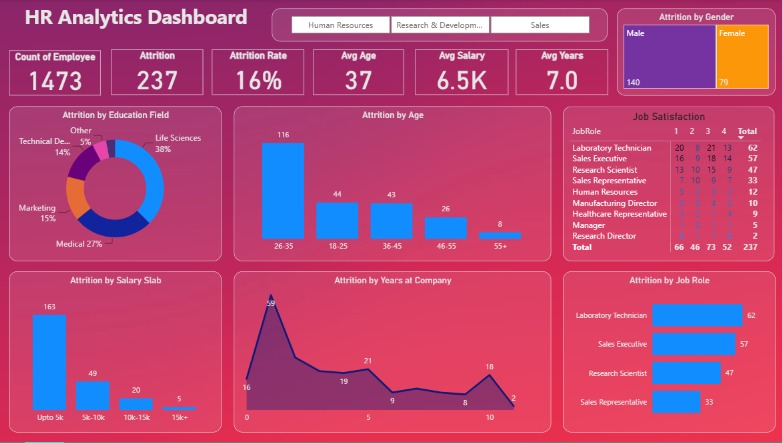

This screenshot's page, from the dashboard's own definition file:
{"tool":"powerbi","page":{"name":"Page 1","canvas":[1280,720],"ordinal":0},"visuals":[{"type":"card","title":"Count of Employee","fields":{"Values":["CountNonNull(HR_Analytics.EmpID)"]},"box":[20.1,82.3,148.6,74.3],"z":0},{"type":"card","title":"Attrition Rate","fields":{"Values":["HR_Analytics.AttritionRate"]},"box":[350,82,150,74],"z":1000},{"type":"card","title":"Avg Age","fields":{"Values":["Avg(HR_Analytics.Age)"]},"box":[514,82,148,74],"z":2000},{"type":"card","title":"Attrition","fields":{"Values":["Sum(HR_Analytics.AttritionCount)"]},"box":[186,82,150,74],"z":3000},{"type":"card","title":"Avg Years","fields":{"Values":["Avg(HR_Analytics.YearsAtCompany)"]},"box":[844,82,150,74],"z":4000},{"type":"card","title":"Avg Salary","fields":{"Values":["Avg(HR_Analytics.MonthlyIncome)"]},"box":[680,82,152,74],"z":5000},{"type":"donutChart","title":"Attrition by Education","fields":{"Category":["HR_Analytics.EducationField"],"Y":["Sum(HR_Analytics.AttritionCount)"]},"box":[20,174,346,252],"z":6000},{"type":"columnChart","title":"Attrition by Age","fields":{"Category":["HR_Analytics.AgeGroup"],"Y":["Sum(HR_Analytics.AttritionCount)"]},"box":[386,174,516,252],"z":7000},{"type":"pivotTable","title":"Job Satisfaction","fields":{"Rows":["HR_Analytics.JobRole"],"Columns":["HR_Analytics.JobSatisfaction"],"Values":["Sum(HR_Analytics.AttritionCount)"]},"box":[920,174,344,252],"z":8000},{"type":"columnChart","title":"Attrition by Age","fields":{"Category":["HR_Analytics.SalarySlab"],"Y":["Sum(HR_Analytics.AttritionCount)"]},"box":[20,442,346,262],"z":9000},{"type":"clusteredBarChart","title":"Attrition by Age","fields":{"Category":["HR_Analytics.JobRole"],"Y":["Sum(HR_Analytics.AttritionCount)"]},"box":[920,442,346,262],"z":10000},{"type":"areaChart","title":"Attrition by Age","fields":{"Category":["HR_Analytics.YearsAtCompany"],"Y":["Sum(HR_Analytics.AttritionCount)"]},"box":[386,442,516,262],"z":11000},{"type":"treemap","title":"Attrition by Age","fields":{"Group":["HR_Analytics.Gender"],"Values":["Sum(HR_Analytics.AttritionCount)"]},"box":[1008,14,258,142],"z":12000},{"type":"slicer","fields":{"Values":["HR_Analytics.Department"]},"box":[448,14,546,54],"z":13000},{"type":"textbox","box":[0,0,480,62],"z":14000}]}

Visuals, with their boxes in screenshot pixels (x1, y1, x2, y2), scaled from the page's 1280x720 canvas onto the 783x443 screenshot:
"Count of Employee" card: Rect(12, 51, 103, 96)
"Attrition Rate" card: Rect(214, 50, 306, 96)
"Avg Age" card: Rect(314, 50, 405, 96)
"Attrition" card: Rect(114, 50, 206, 96)
"Avg Years" card: Rect(516, 50, 608, 96)
"Avg Salary" card: Rect(416, 50, 509, 96)
"Attrition by Education" donutChart: Rect(12, 107, 224, 262)
"Attrition by Age" columnChart: Rect(236, 107, 552, 262)
"Job Satisfaction" pivotTable: Rect(563, 107, 773, 262)
"Attrition by Age" columnChart: Rect(12, 272, 224, 433)
"Attrition by Age" clusteredBarChart: Rect(563, 272, 774, 433)
"Attrition by Age" areaChart: Rect(236, 272, 552, 433)
"Attrition by Age" treemap: Rect(617, 9, 774, 96)
slicer - HR_Analytics.Department: Rect(274, 9, 608, 42)
textbox: Rect(0, 0, 294, 38)
